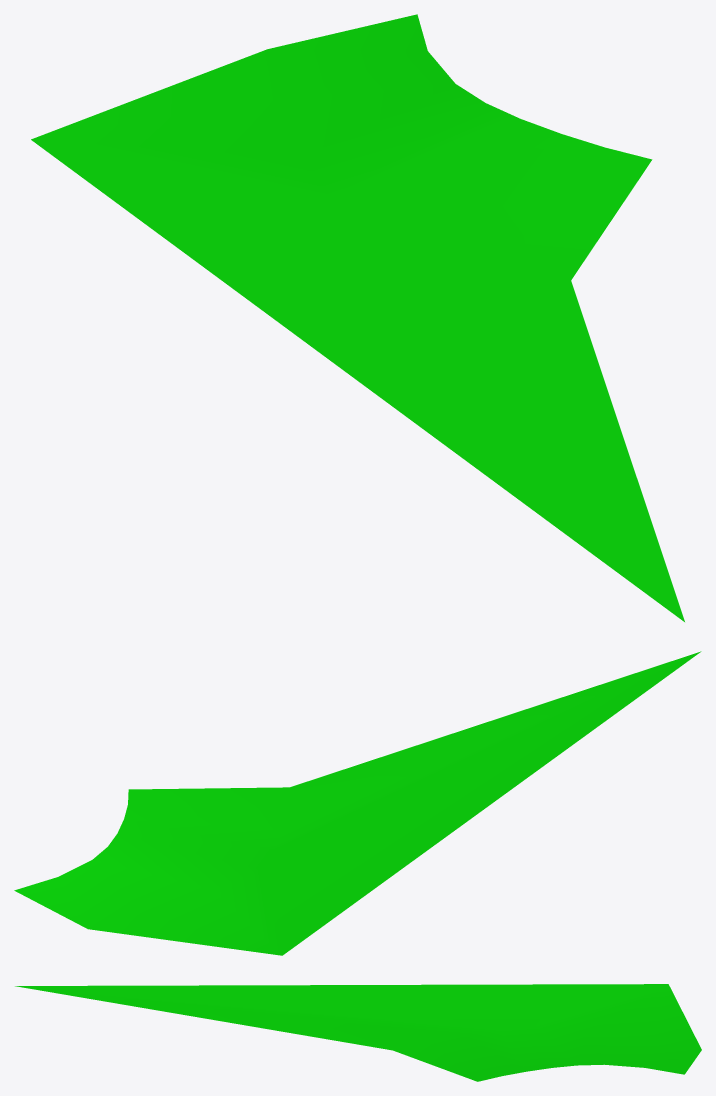
File: WaterFloorLeft.glb
3 views of the same model, one above another, from view 1: azimuth 30°, elevation 25°; view 2: azimuth 150°, elevation 25°; view 3: azimuth 270°, elevation 25° (orthographic). The views are drawn at different scales.
Visible parts, largest first — view 1: WaterFloorLeft; view 2: WaterFloorLeft; view 3: WaterFloorLeft.
Part boxes in pixels (<box>): WaterFloorLeft: <box>31,14,684,621</box>; WaterFloorLeft: <box>14,651,701,955</box>; WaterFloorLeft: <box>15,984,701,1081</box>.
Size of the model in its own units: 30.29 by 1.3 by 83.78.
